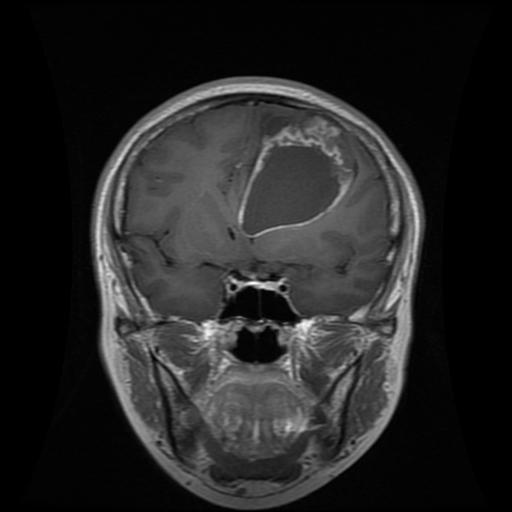Gliomia_tumour: (235, 113, 356, 238)
